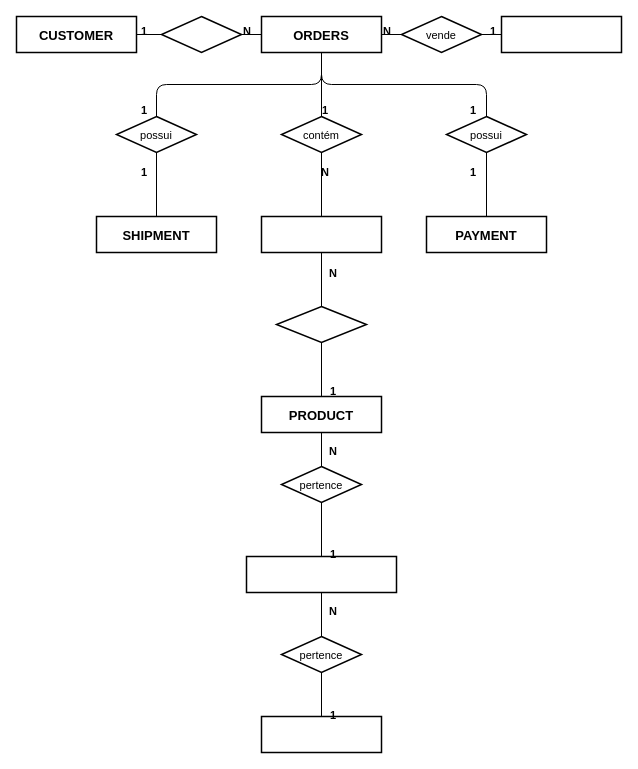
This 638x769 diagram has some shape labels left out. The centre of each missing label's shape, as x and y in pixels:
"CATEGORY" goes at point 321,734.
"ORDER_ITEM" goes at point 321,234.
"realiza" goes at point 201,34.
"referencia" goes at point 321,324.
"SELLER" goes at point 561,34.
"SUB_CATEGORY" goes at point 321,574.
